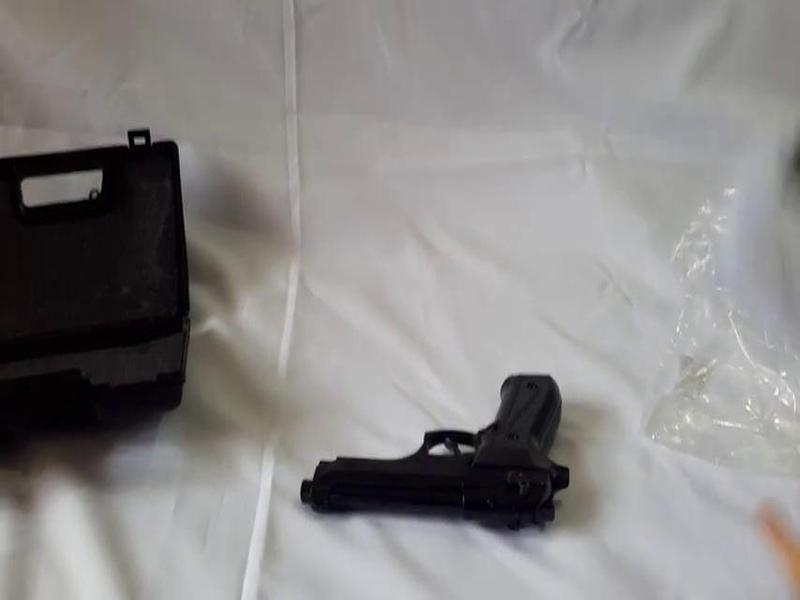Pistola: (271, 340, 597, 542)
